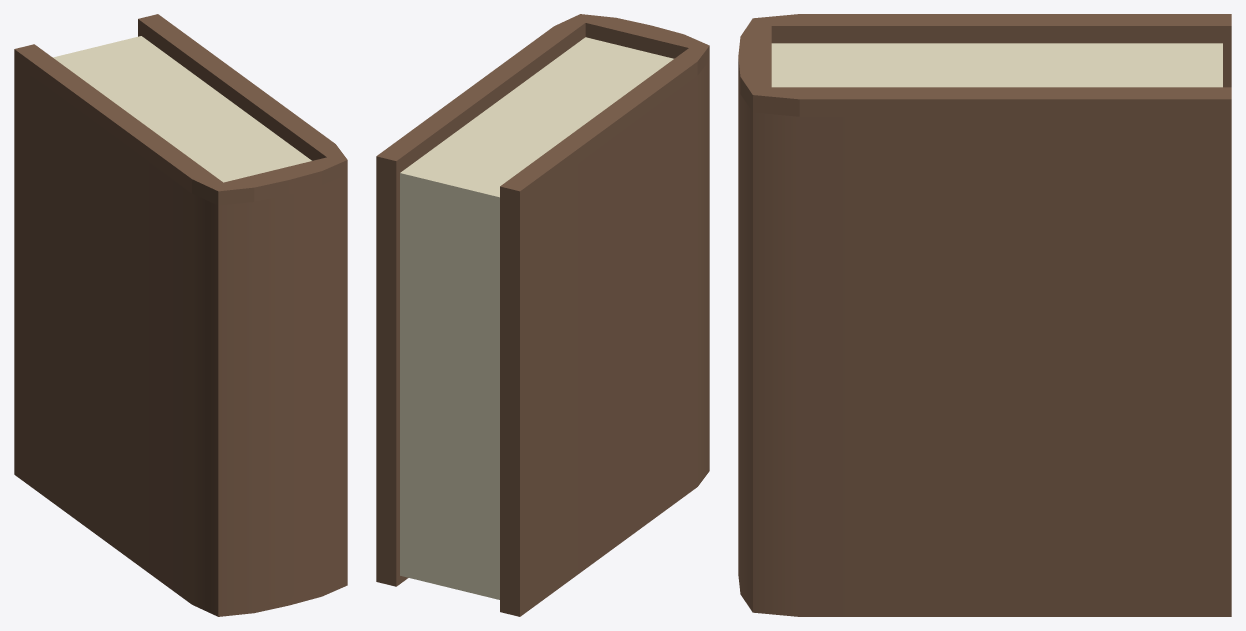
File: atoll_Book_01.fbx
3 views of the same model, side by side, from view 1: azimuth 30°, elevation 25°; view 2: azimuth 150°, elevation 25°; view 3: azimuth 270°, elevation 25° (orthographic). The views are drawn at different scales.
Parts seen in each view (by area): view 1: Book_Brown; view 2: Book_Brown; view 3: Book_Brown.
Boxes of the visible parts, x1,y1,x2,y2 form: Book_Brown: [14, 14, 347, 616]; Book_Brown: [376, 14, 709, 616]; Book_Brown: [738, 14, 1231, 616].
Size of the model in its own units: 5.44 by 15.38 by 13.29.
